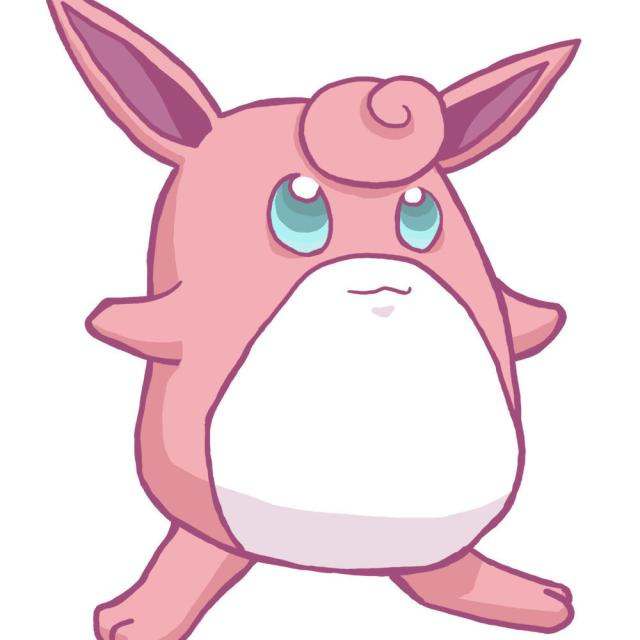Wigglytuff: (83, 36, 578, 622)
